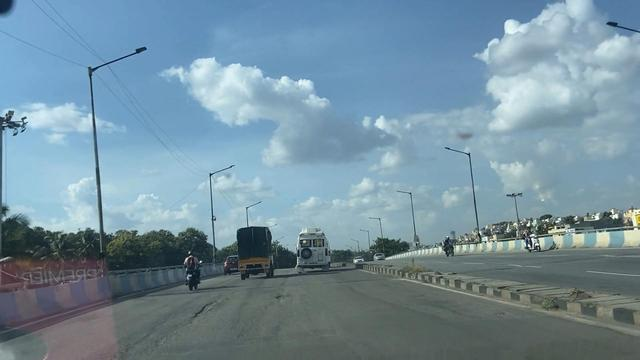HMV: (236, 227, 276, 282), (297, 223, 334, 271)
LMV: (184, 247, 204, 290)
RoadDamages: (126, 319, 202, 360), (185, 290, 238, 329), (273, 279, 303, 318)
